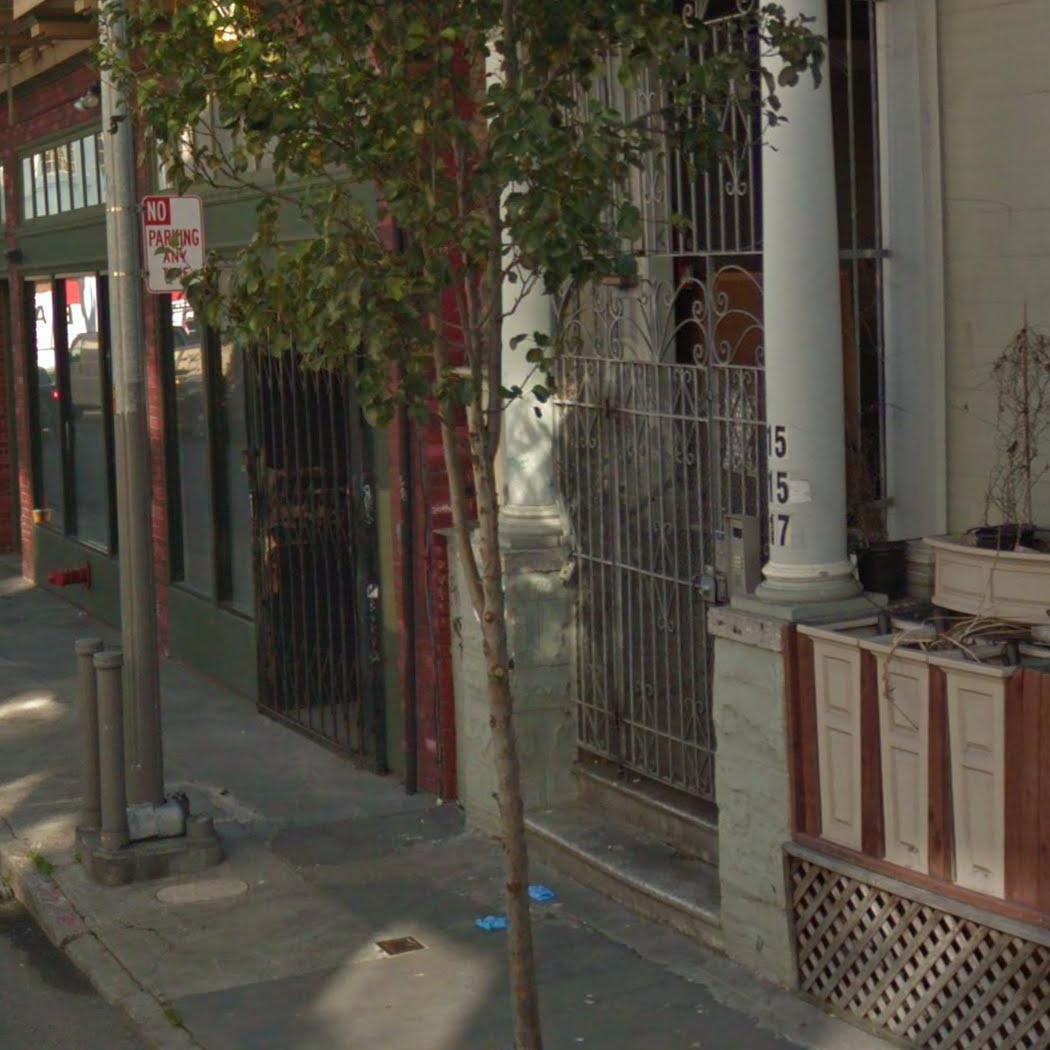No Parking Anytime: (139, 192, 209, 296)
